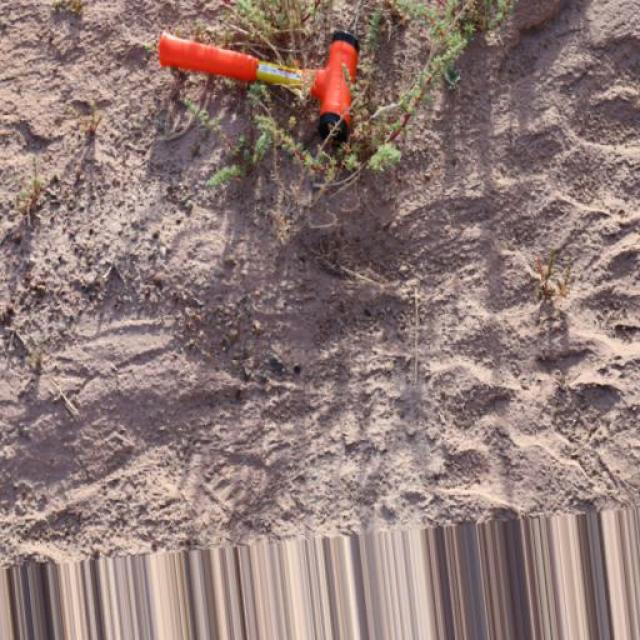mallet: (155, 26, 360, 144)
